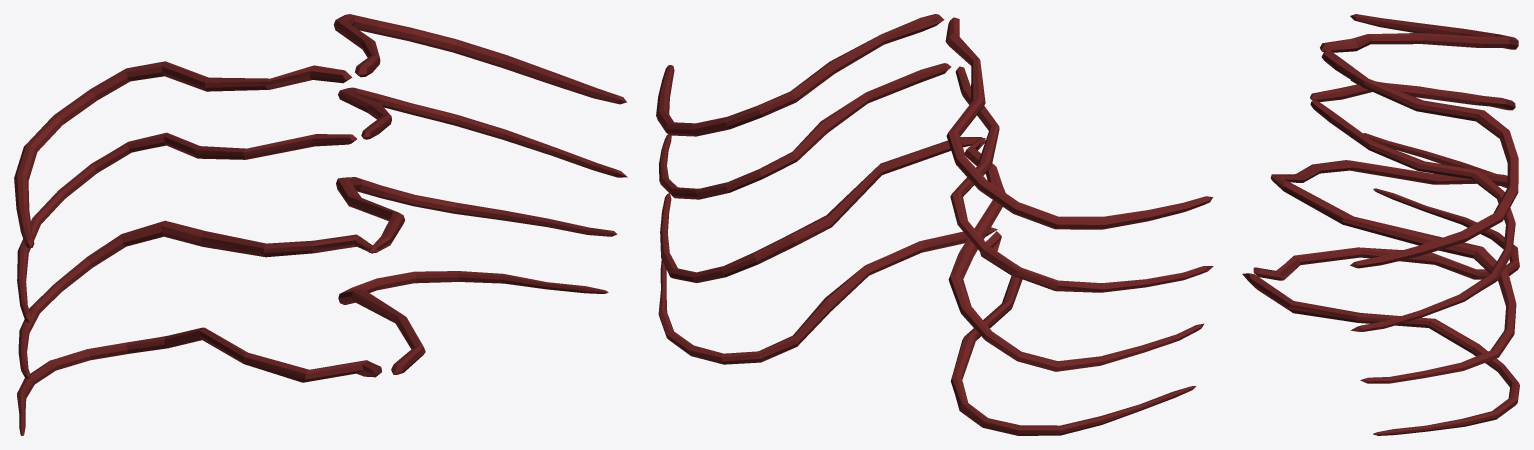
The model's file is Artérias Lumbares.FBX.
The picture shows the model from 3 angles, left to right: view 1: azimuth 30°, elevation 25°; view 2: azimuth 150°, elevation 25°; view 3: azimuth 270°, elevation 25°; orthographic projection. The views are drawn at different scales.
Parts seen in each view (by area): view 1: CS_Arterie; view 2: CS_Arterie; view 3: CS_Arterie.
Boxes of the visible parts, box(x1,y1,x2,y2) form: CS_Arterie: box(14, 14, 627, 435); CS_Arterie: box(656, 14, 1213, 435); CS_Arterie: box(1242, 14, 1519, 435).
Bounding box in the file's own units: 24.14 × 12.93 × 11.33.
